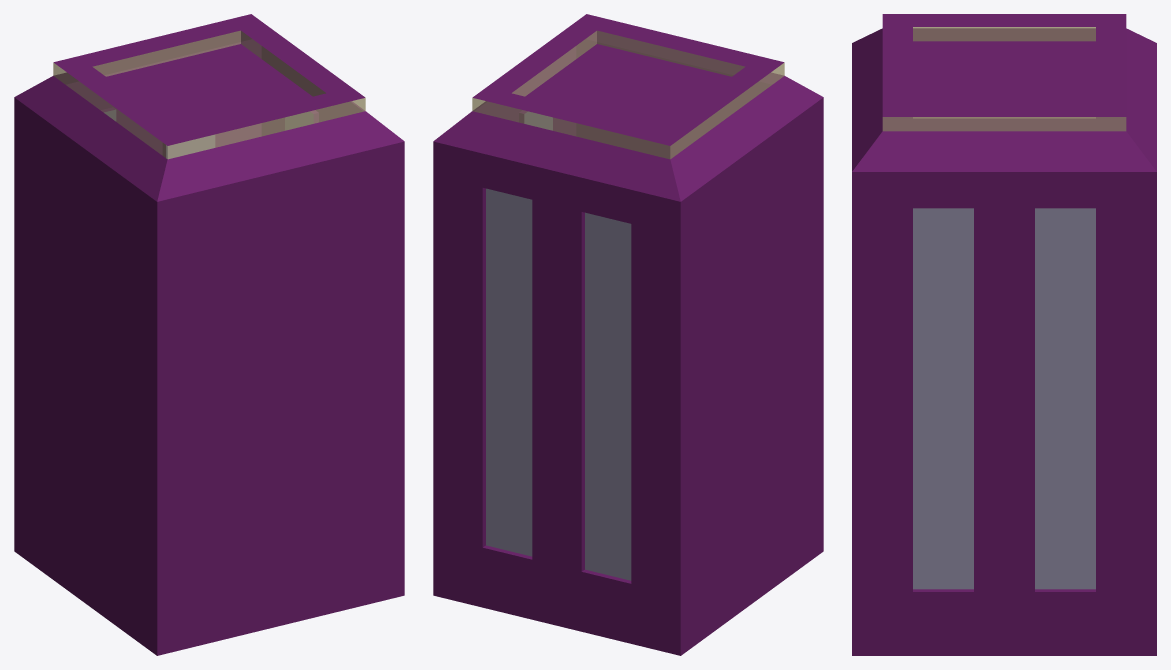
File: Purple Building.fbx
3 renders of one model, left to right at view 1: azimuth 30°, elevation 25°; view 2: azimuth 150°, elevation 25°; view 3: azimuth 270°, elevation 25°, orthographic. The views are drawn at different scales.
Parts seen in each view (by area): view 1: pCube14; view 2: pCube14; view 3: pCube14.
Part boxes in pixels (left/top/right/bottom): pCube14: left=14, top=14, right=404, bottom=655; pCube14: left=433, top=14, right=823, bottom=655; pCube14: left=852, top=14, right=1156, bottom=655.
Bounding box in the file's own units: 33.73 × 64.23 × 33.73.
